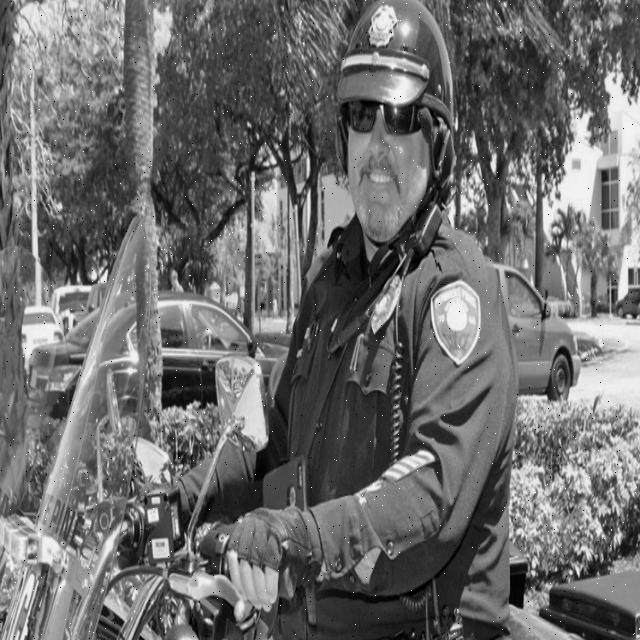police: (160, 0, 522, 640)
